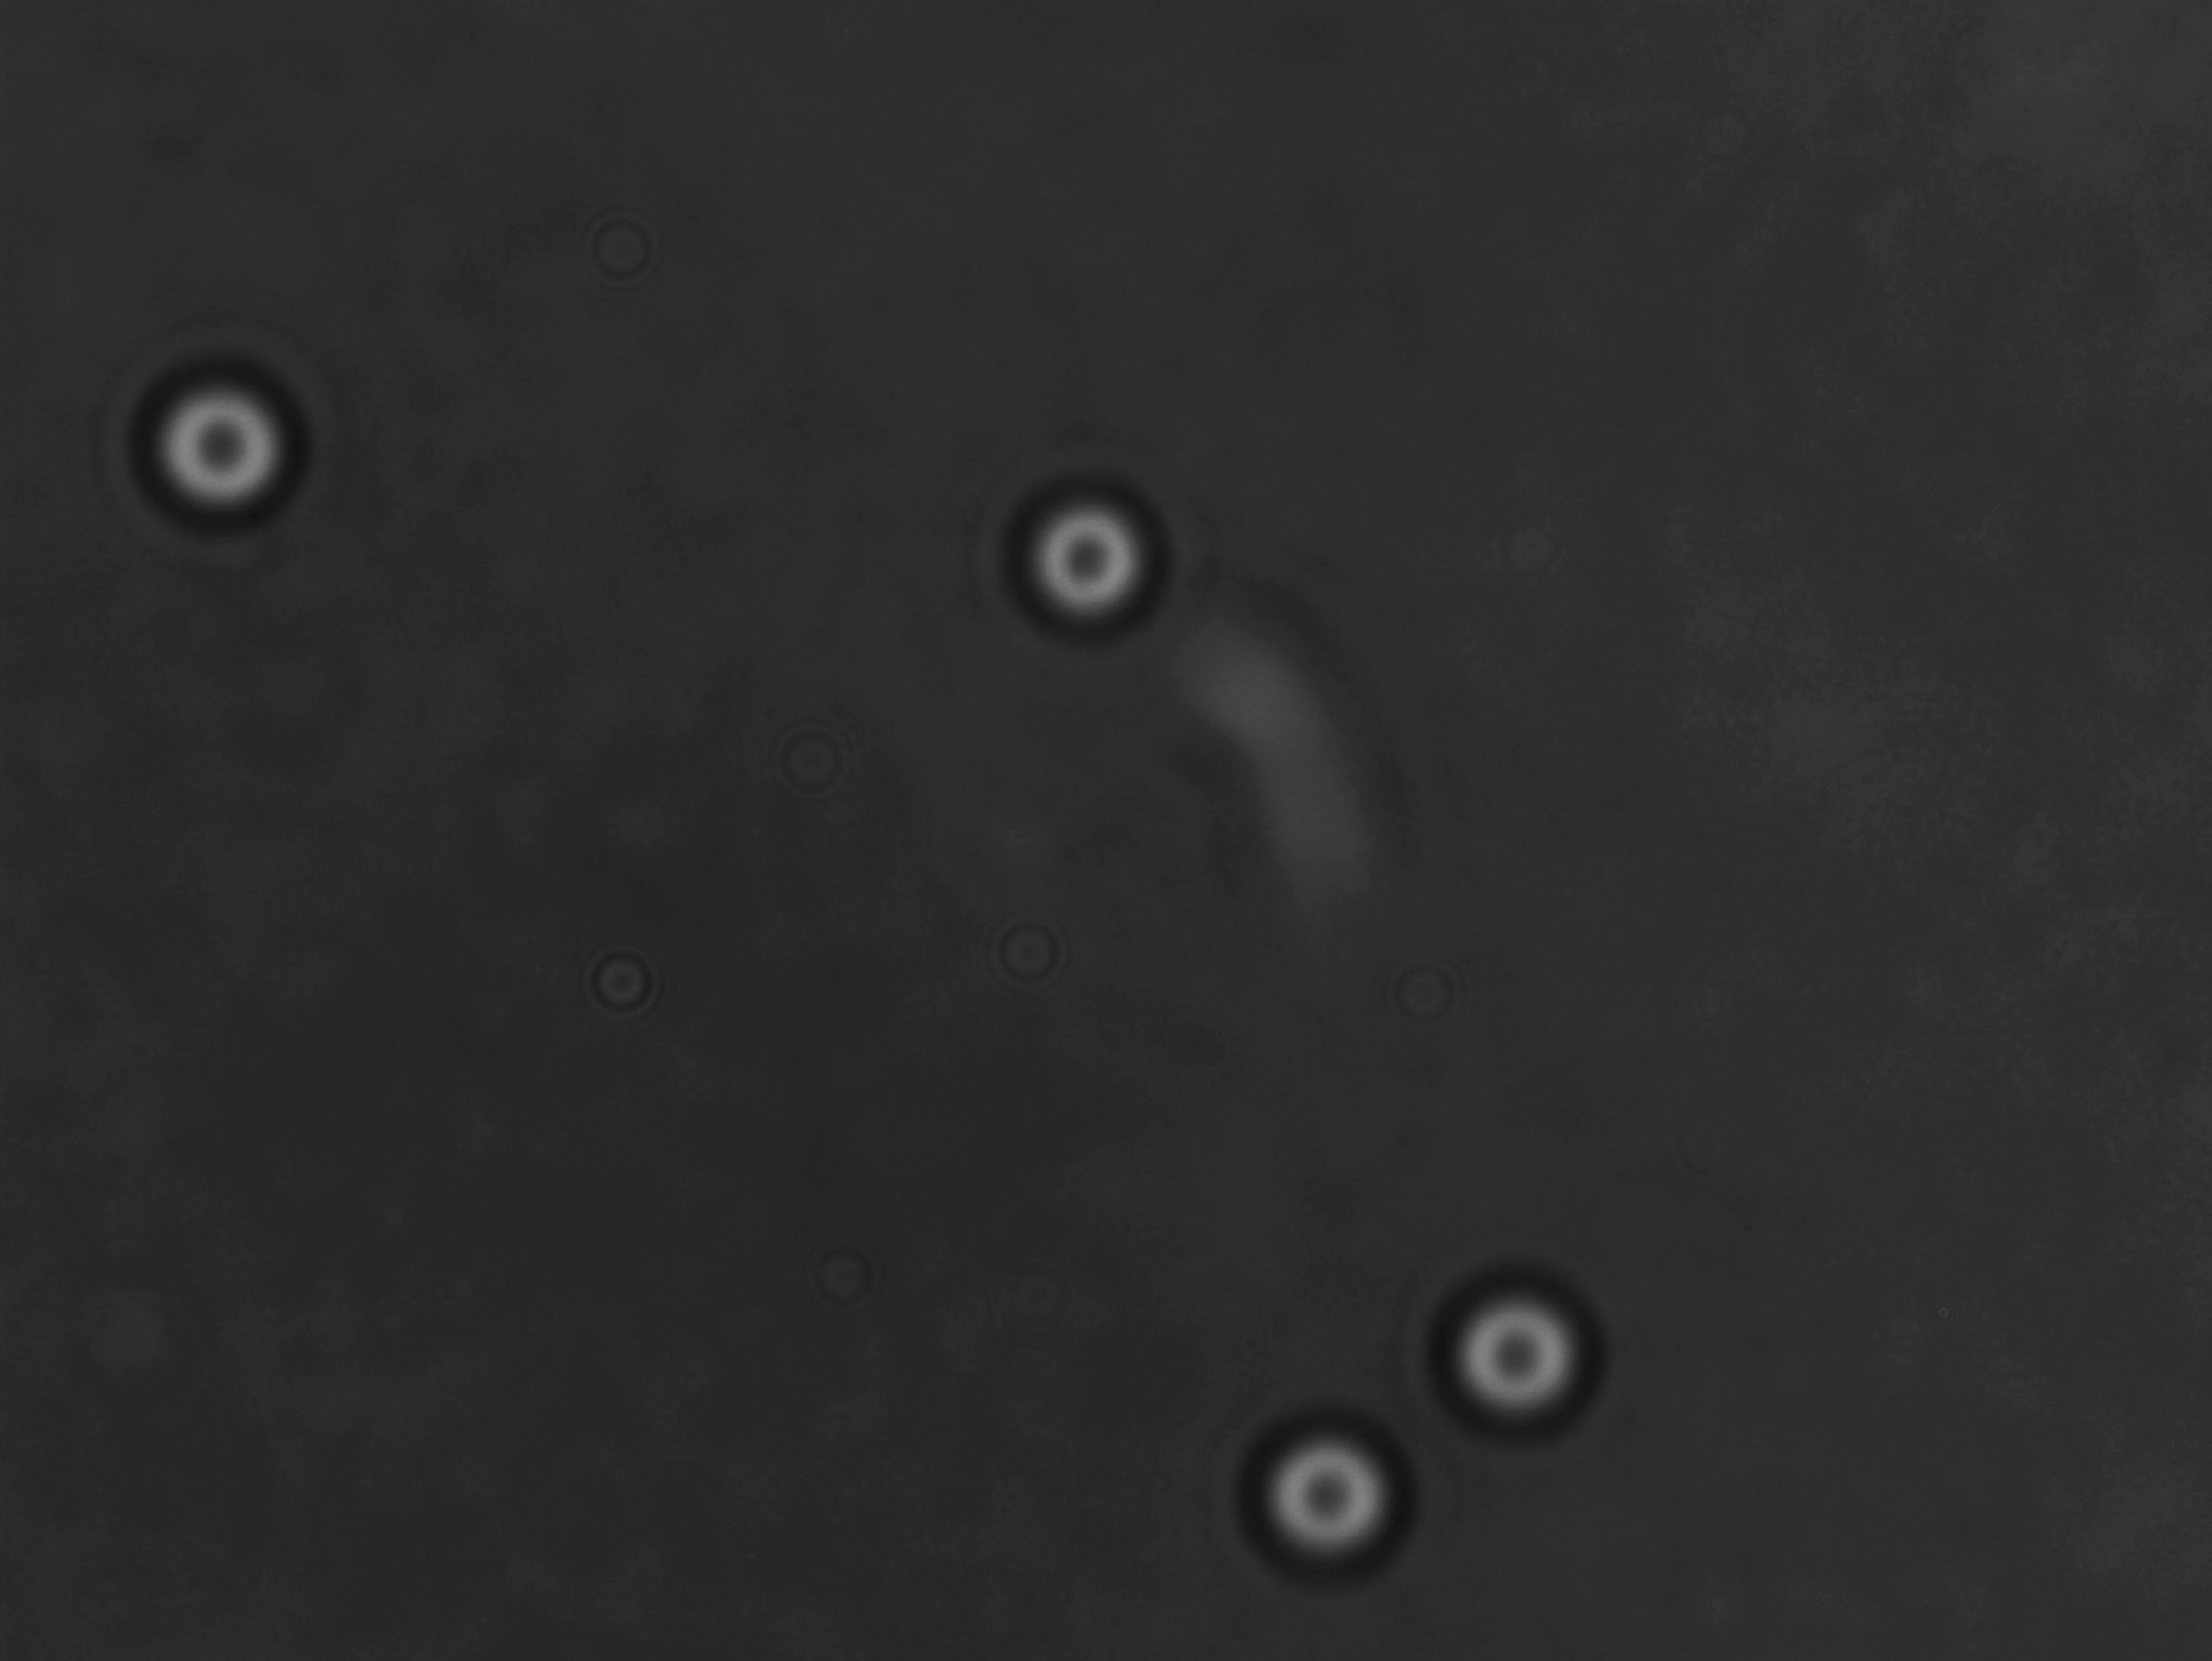depth:80: (1418, 1234, 1642, 1445), (120, 333, 317, 541), (994, 459, 1181, 670), (1240, 1398, 1436, 1581)
